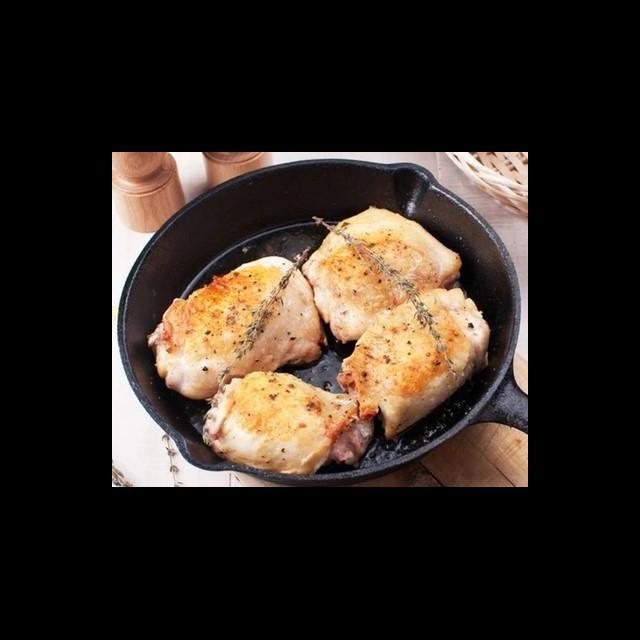thit ga: (145, 253, 331, 402), (334, 286, 494, 440), (298, 202, 464, 346), (198, 369, 375, 478)
